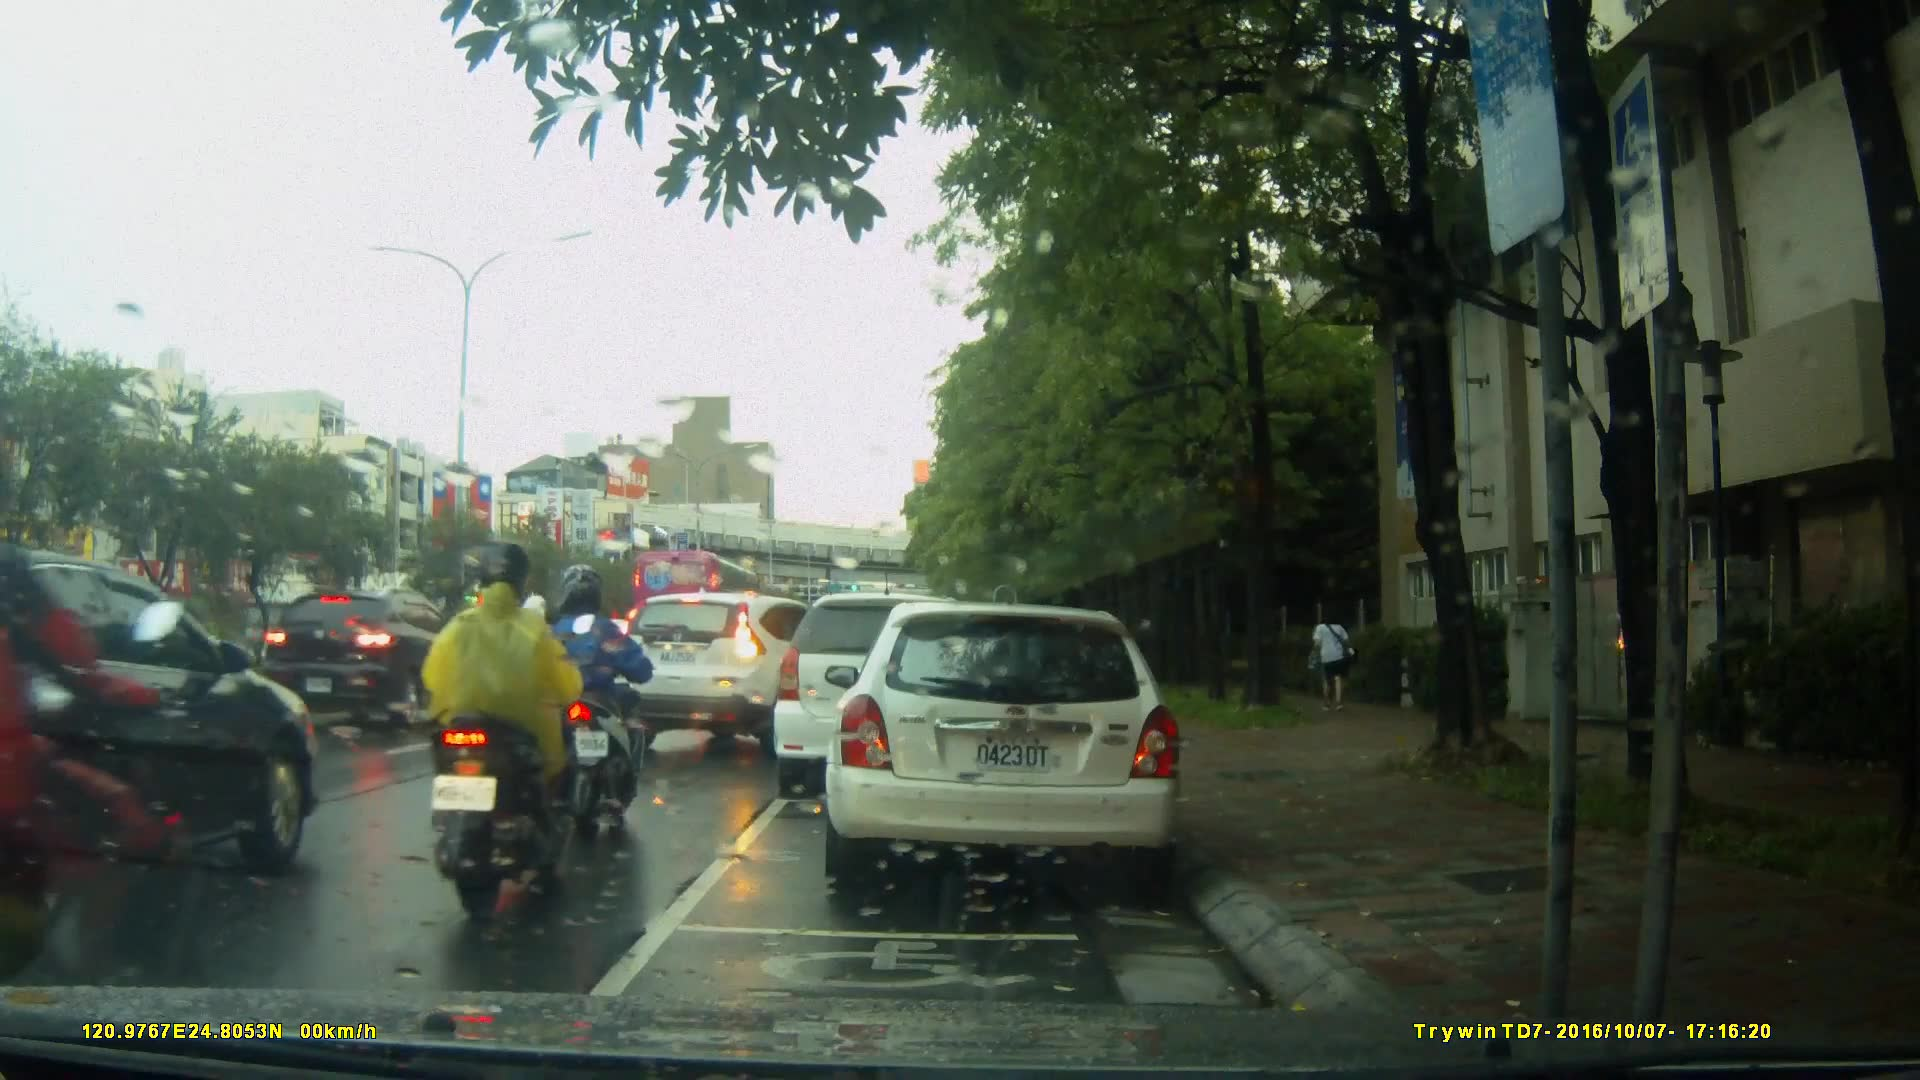pedestrian: (1301, 598, 1359, 725)
rider: (1, 418, 208, 1026), (422, 546, 586, 915), (536, 564, 660, 841)
vehicle: (1, 547, 307, 927), (835, 594, 1194, 898), (776, 590, 1026, 784), (606, 587, 869, 763), (251, 580, 472, 736), (631, 548, 763, 638)
